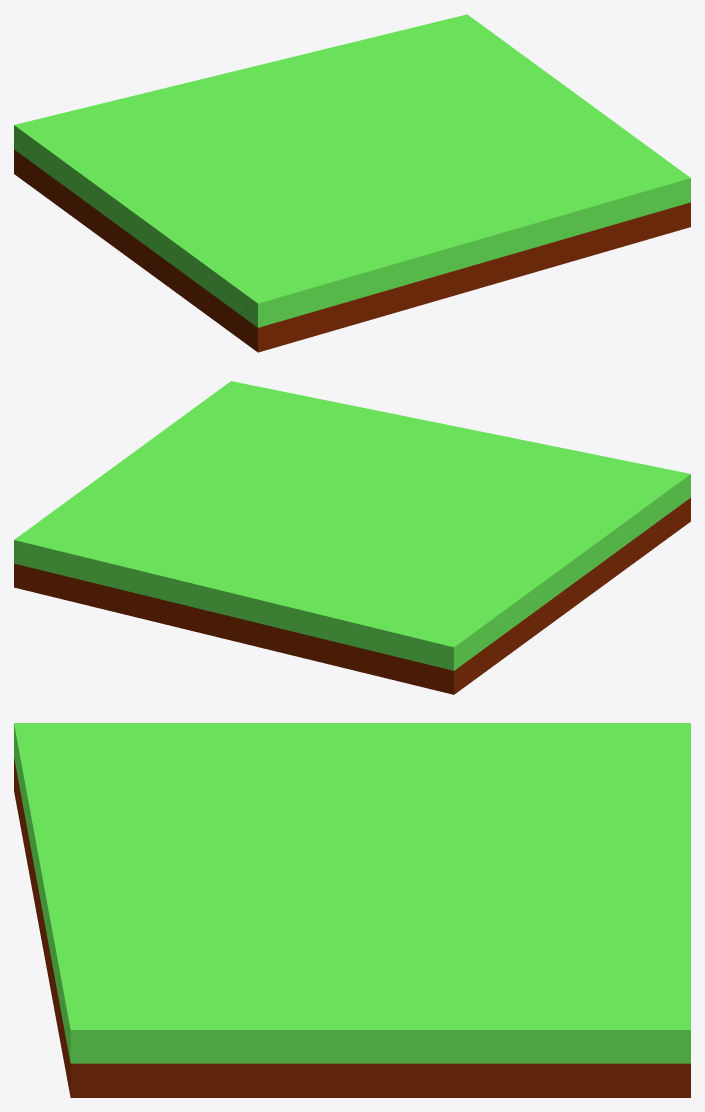
File: escenarioTestcentro2.fbx
The picture shows the model from 3 angles, top to bottom: view 1: azimuth 30°, elevation 25°; view 2: azimuth 150°, elevation 25°; view 3: azimuth 270°, elevation 25°; orthographic projection. The views are drawn at different scales.
Parts seen in each view (by area): view 1: Cube.014; view 2: Cube.014; view 3: Cube.014.
Boxes of the visible parts, <box> form: Cube.014: <box>14,14,690,352</box>; Cube.014: <box>14,381,690,694</box>; Cube.014: <box>14,723,690,1097</box>.
Bounding box in the file's own units: 2359 × 244 × 2200.
